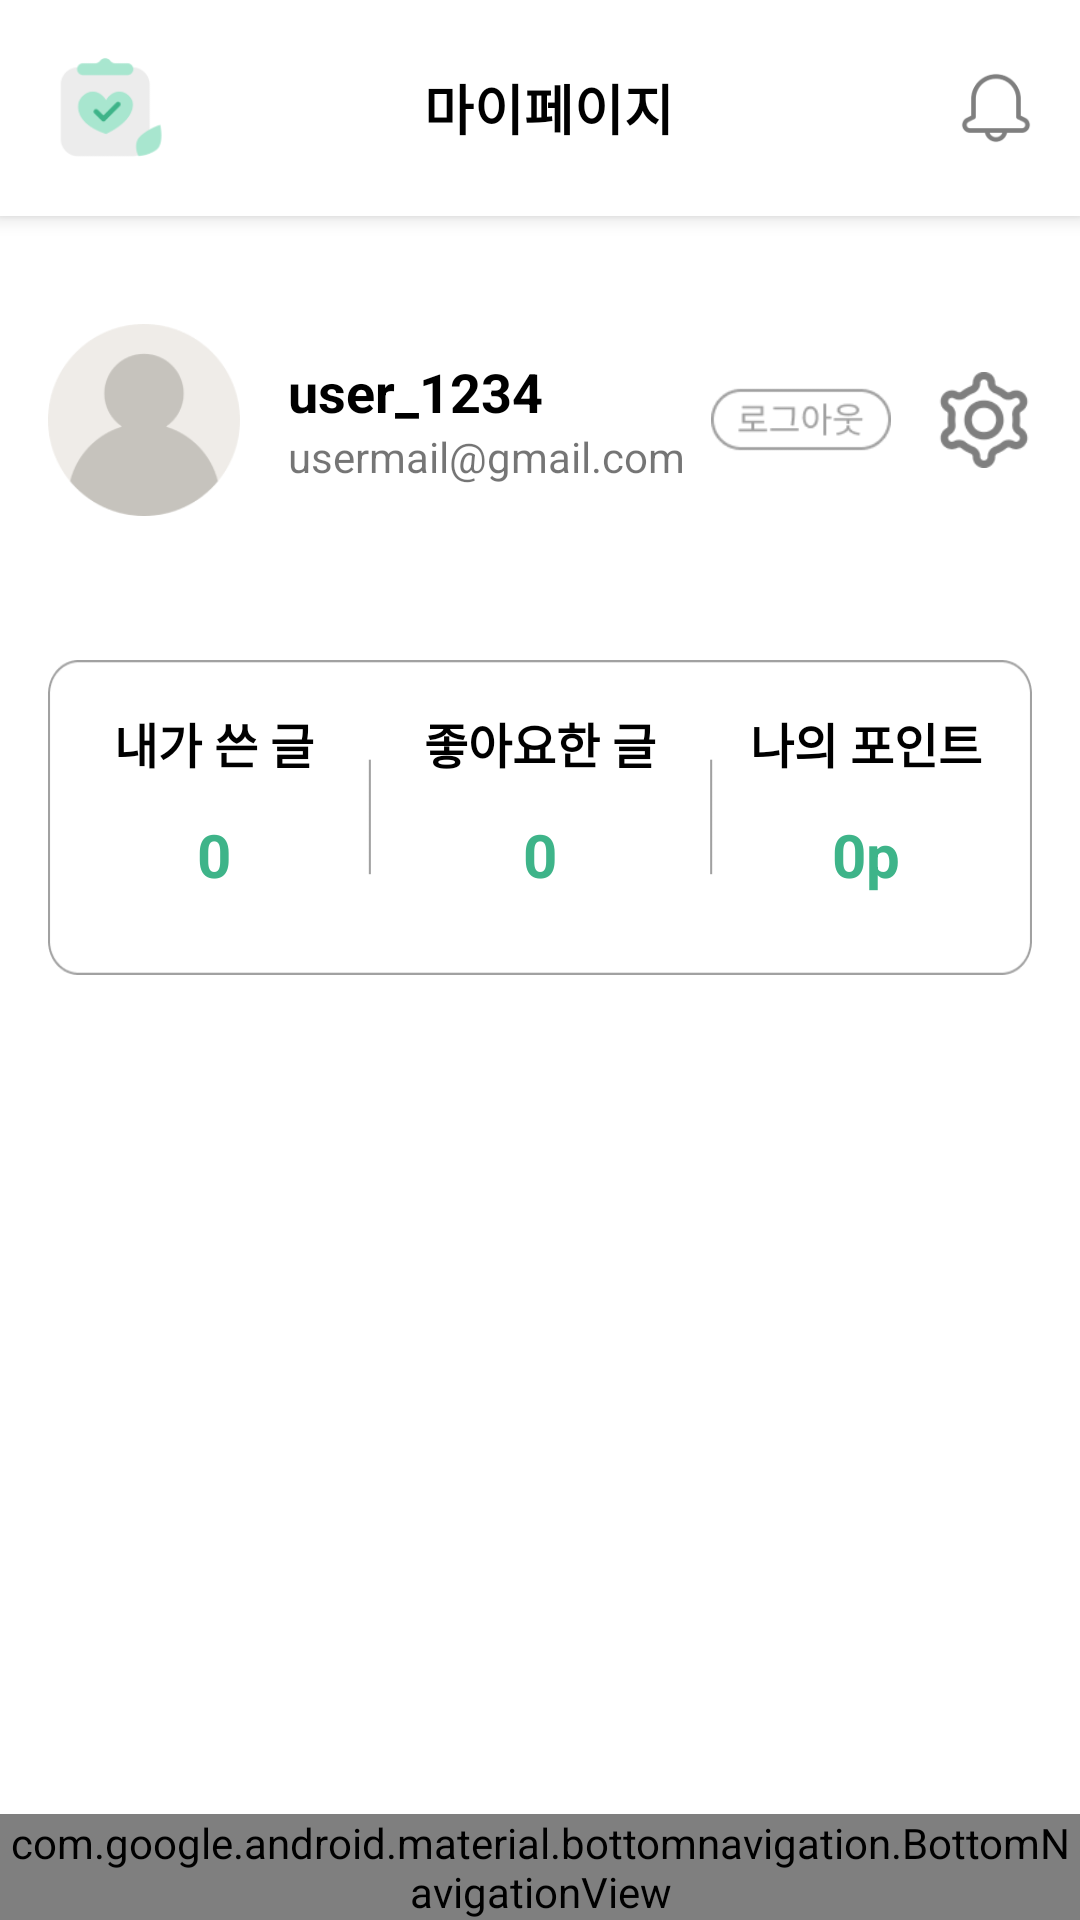

Icons on this 1080*1920 Android screen, each with the point to tap as point (x, y):
notification: point (996, 108)
profile: point (144, 434)
settings: point (984, 420)
